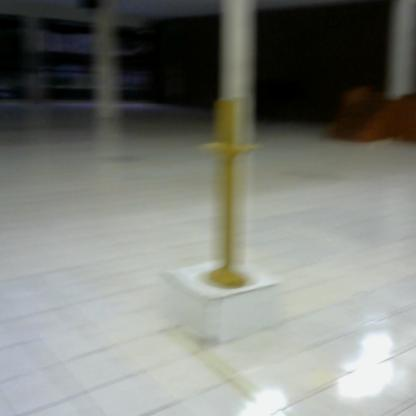pole: (193, 88, 268, 300)
